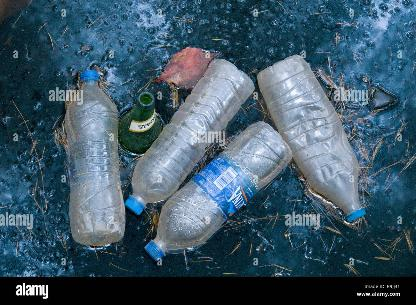Plastic Bottle: (138, 127, 292, 263), (51, 67, 123, 255), (296, 47, 372, 223), (163, 41, 263, 115)
